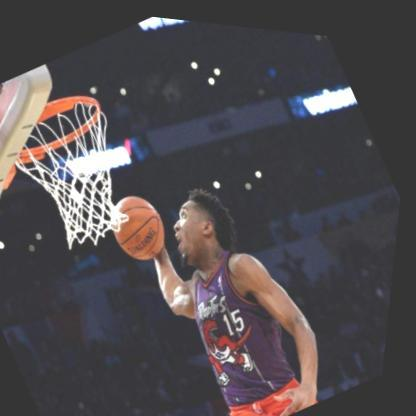basketball: (102, 180, 185, 269)
rim: (0, 72, 165, 263)
